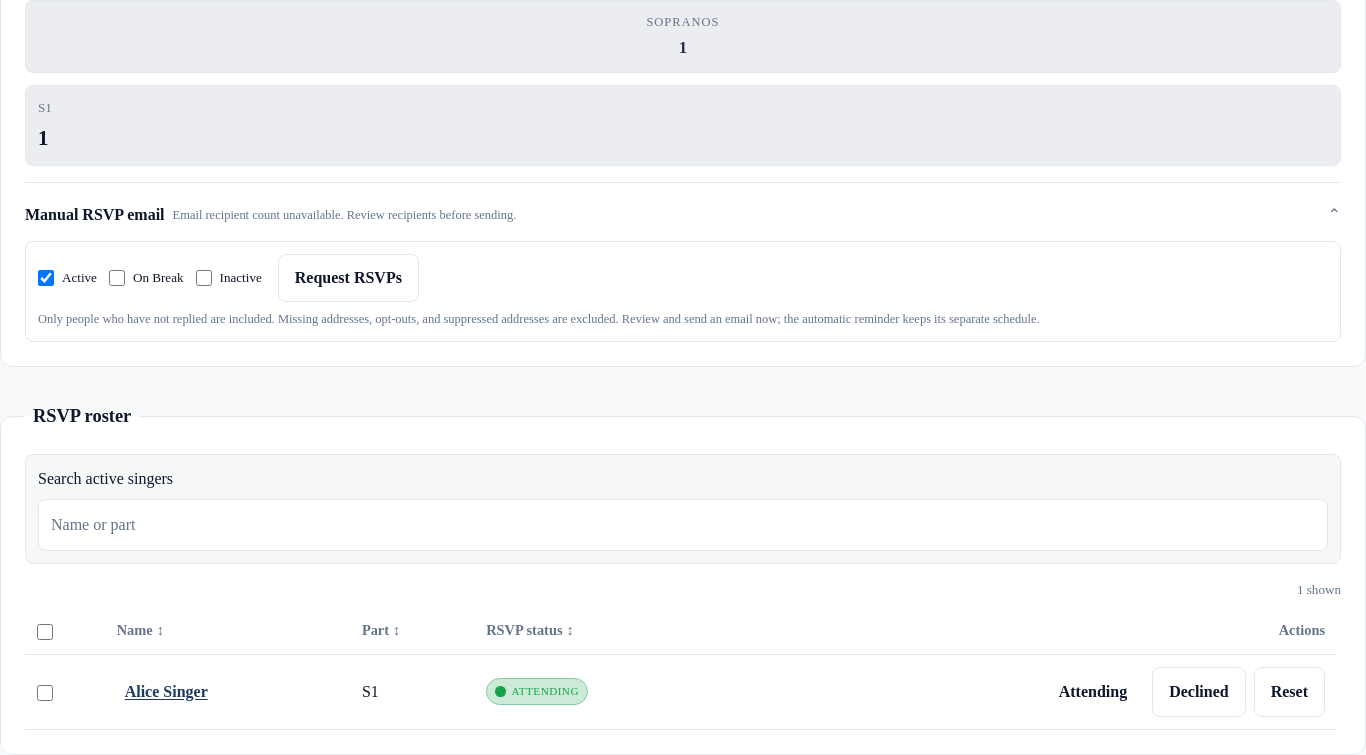
Test case: RsvpManagerPage profile editor (issue #137) › opens the correct profile by name button, saves with RSVP label, and returns focus with list state preserved
(page scrolled)
Type "Alice" into the field with placeholder "Name or part".
click(683, 525); type("Alice")  # box 38,499 -> 1328,551
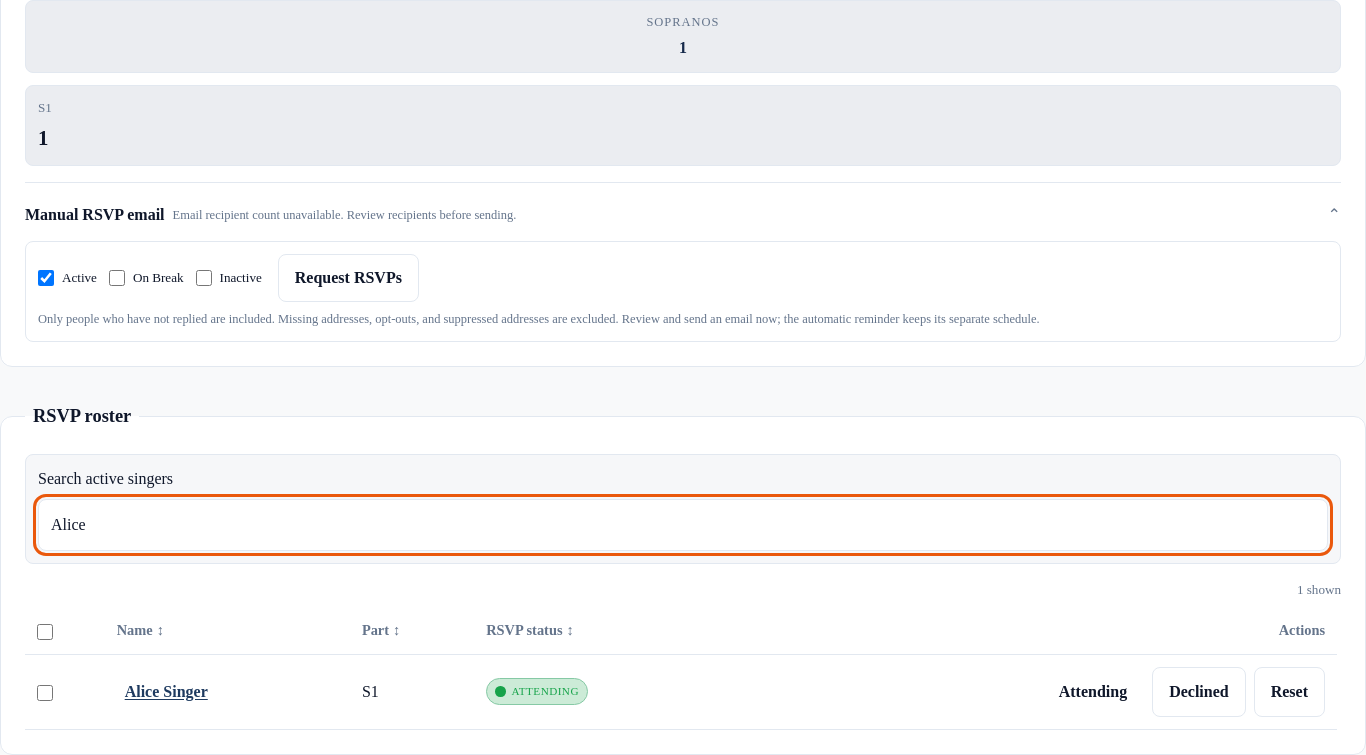
Click the checkbox named "Select Alice Singer".
click(45, 693)  # box 37,685 -> 53,701
(page scrolled)
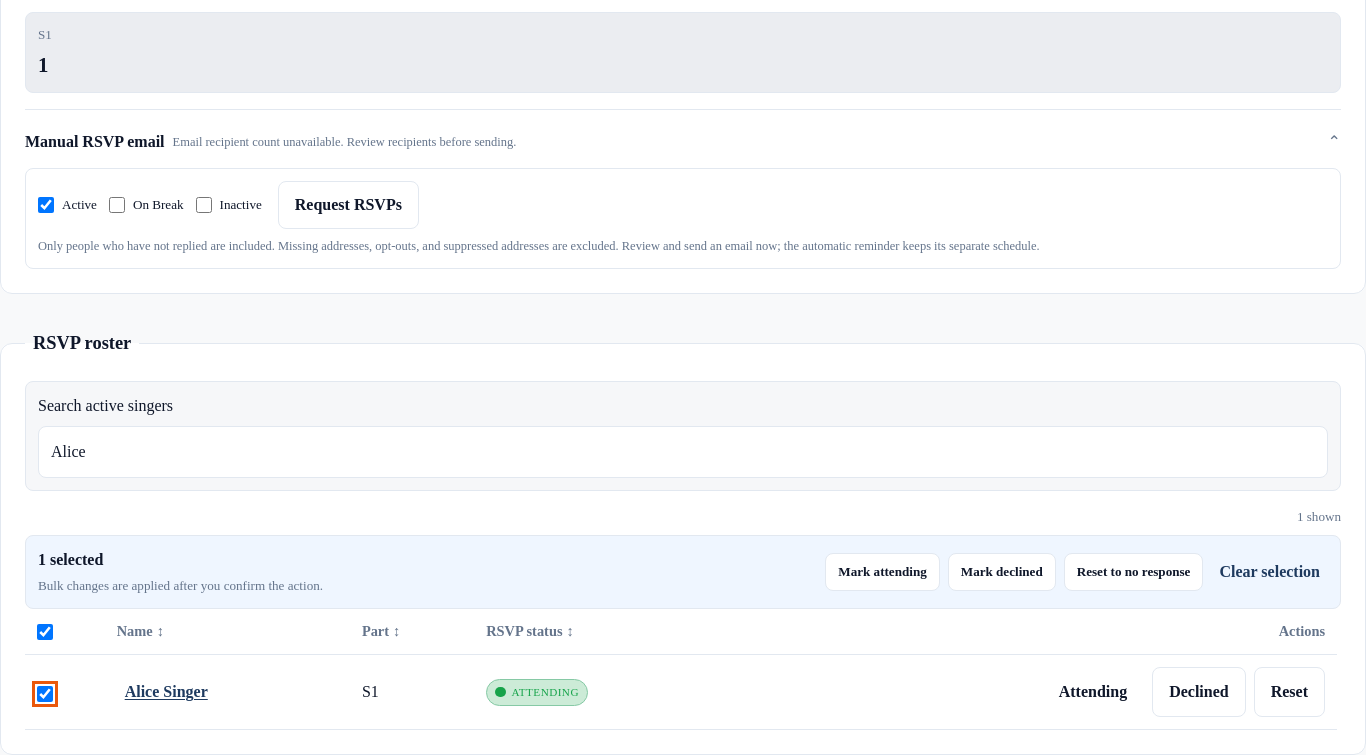
Result: the checkbox named "Select Alice Singer" is checked at 37,686 -> 53,702
Click the button with aria-label "Open profile for Alice Singer".
click(166, 692)  # box 117,672 -> 216,712
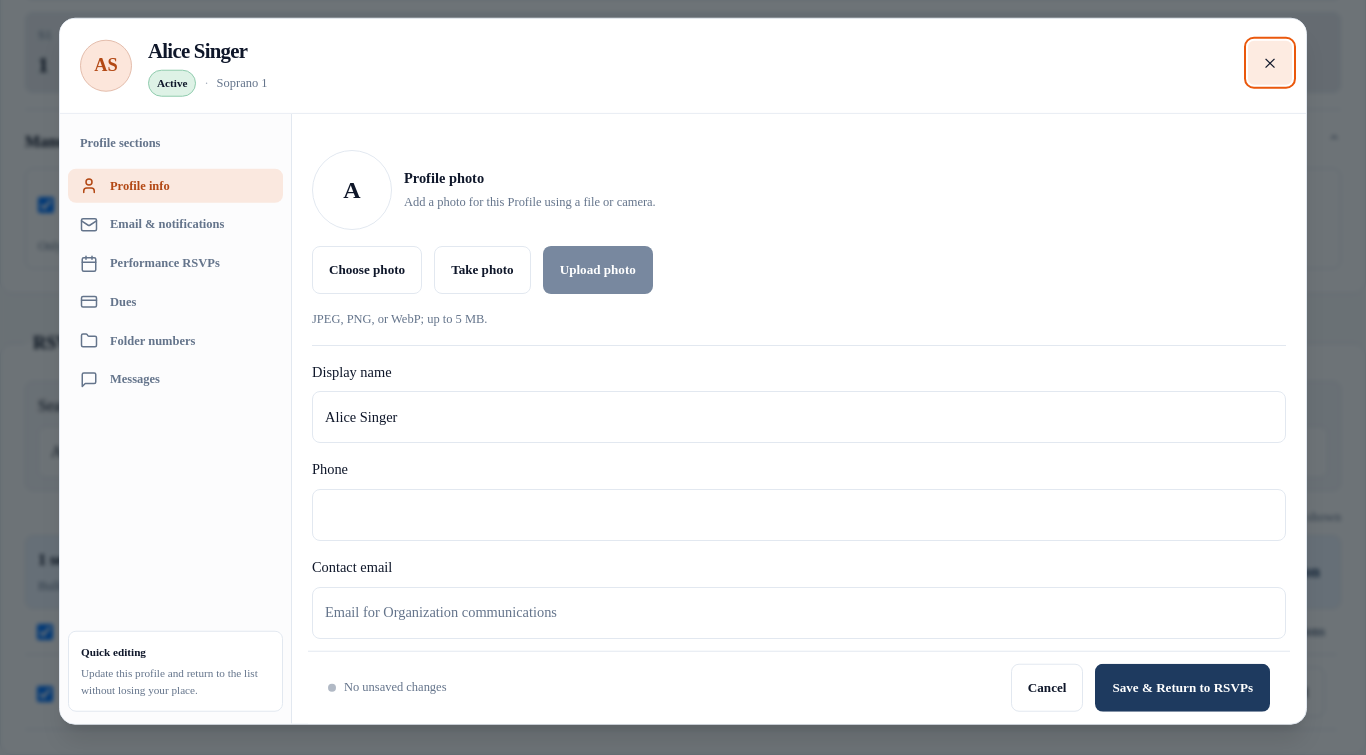
Result: the field labelled "Display name" holds "Alice Singer"
Result: the tab "Profile info" is shown at 68,168 -> 283,203
Result: the tab "Email & notifications" is shown at 68,207 -> 283,242
Replace the text in the field labelled "Display name" with "Alice Renamed" at (799, 417), box 312,391 -> 1286,443
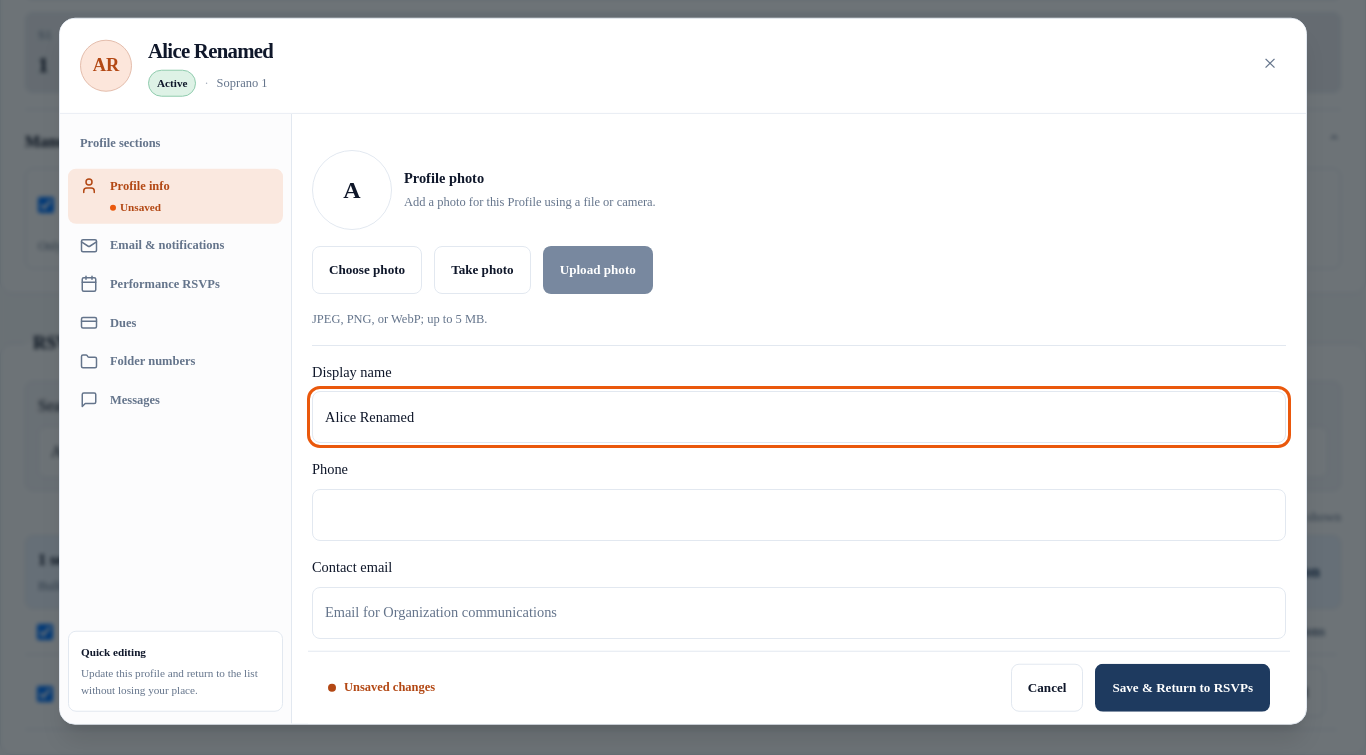
Click the button "Save & Return to RSVPs".
click(1183, 687)  # box 1095,663 -> 1270,711
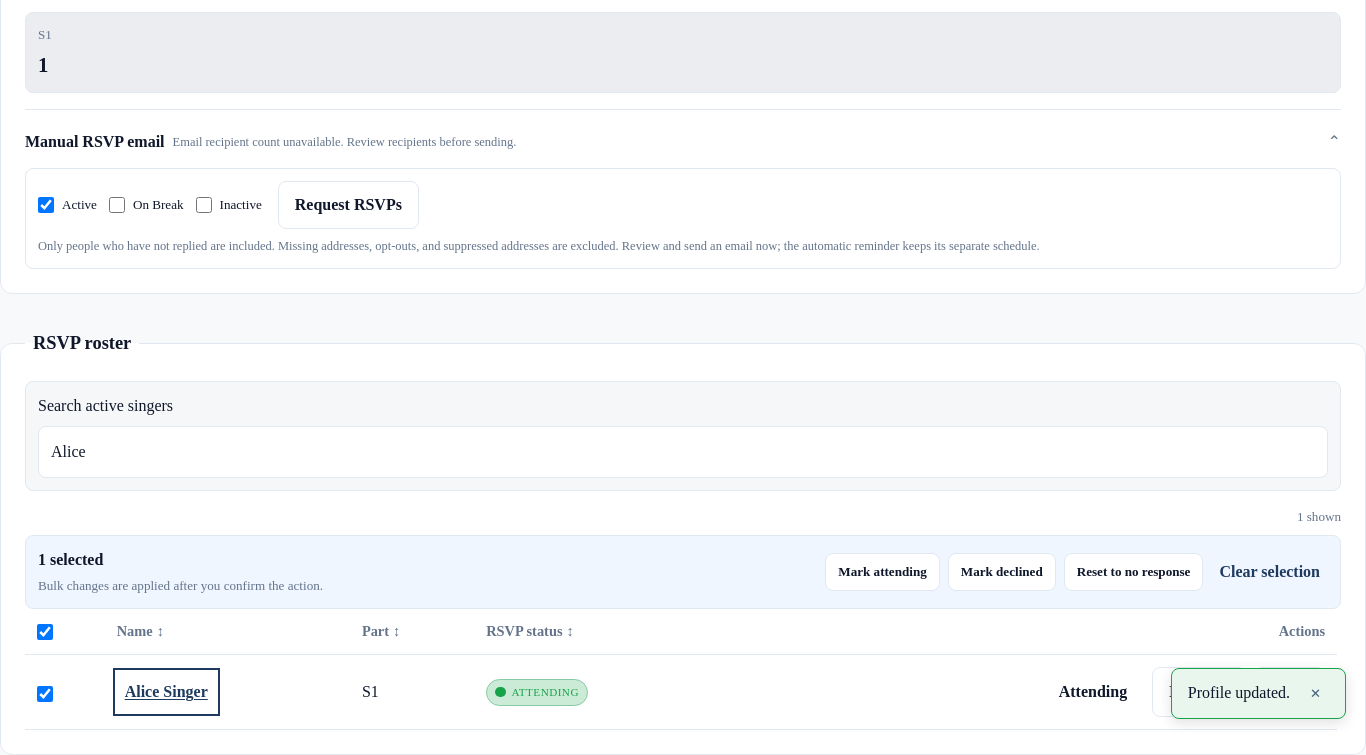
Expected: the dialog "Edit Profile" is not shown
Result: the checkbox named "Select Alice Singer" is checked at 37,686 -> 53,702
Result: the text "Profile updated." is shown at 1188,681 -> 1290,705
